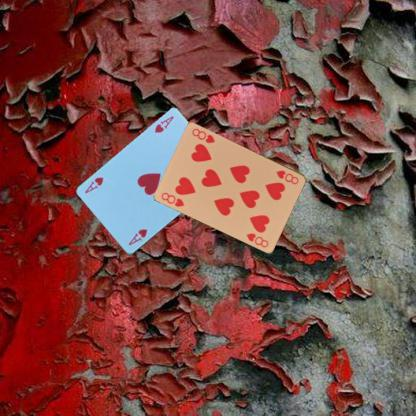8h: (159, 190, 186, 208), (274, 168, 300, 186)
Ah: (152, 113, 175, 135), (126, 226, 148, 247)
